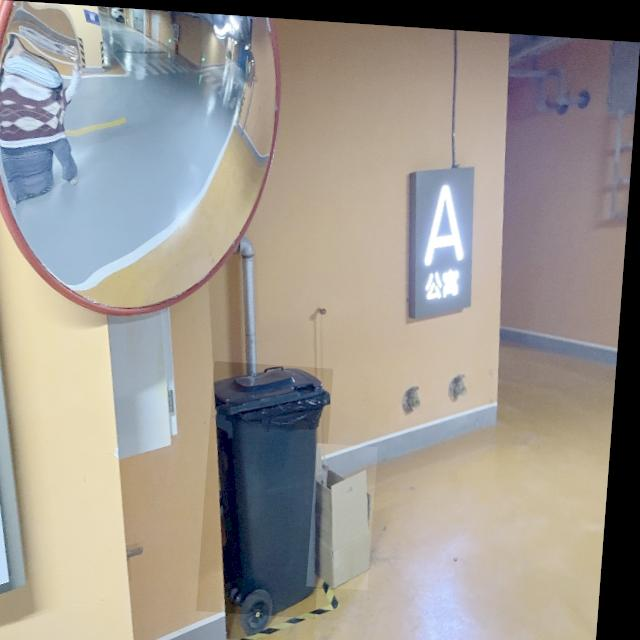garbage: (315, 438, 385, 584)
garbage_bin: (205, 358, 339, 614)
